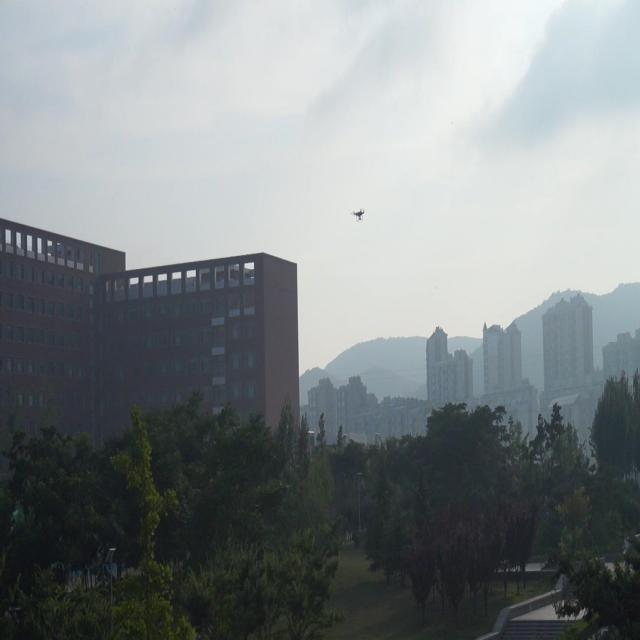UAV: (350, 208, 365, 222)
